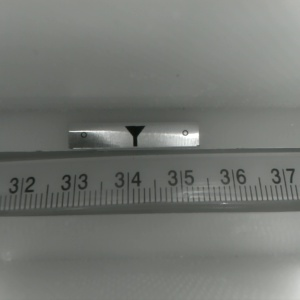2: (23, 177, 34, 193)
3: (166, 169, 177, 186), (270, 169, 281, 185), (77, 174, 88, 190), (60, 174, 71, 190), (114, 171, 124, 188), (8, 177, 18, 194), (219, 169, 229, 185)
4: (130, 171, 141, 186)
5: (183, 169, 193, 186)
6: (235, 169, 246, 185)
7: (286, 169, 296, 185)
finger: (123, 126, 145, 146)
